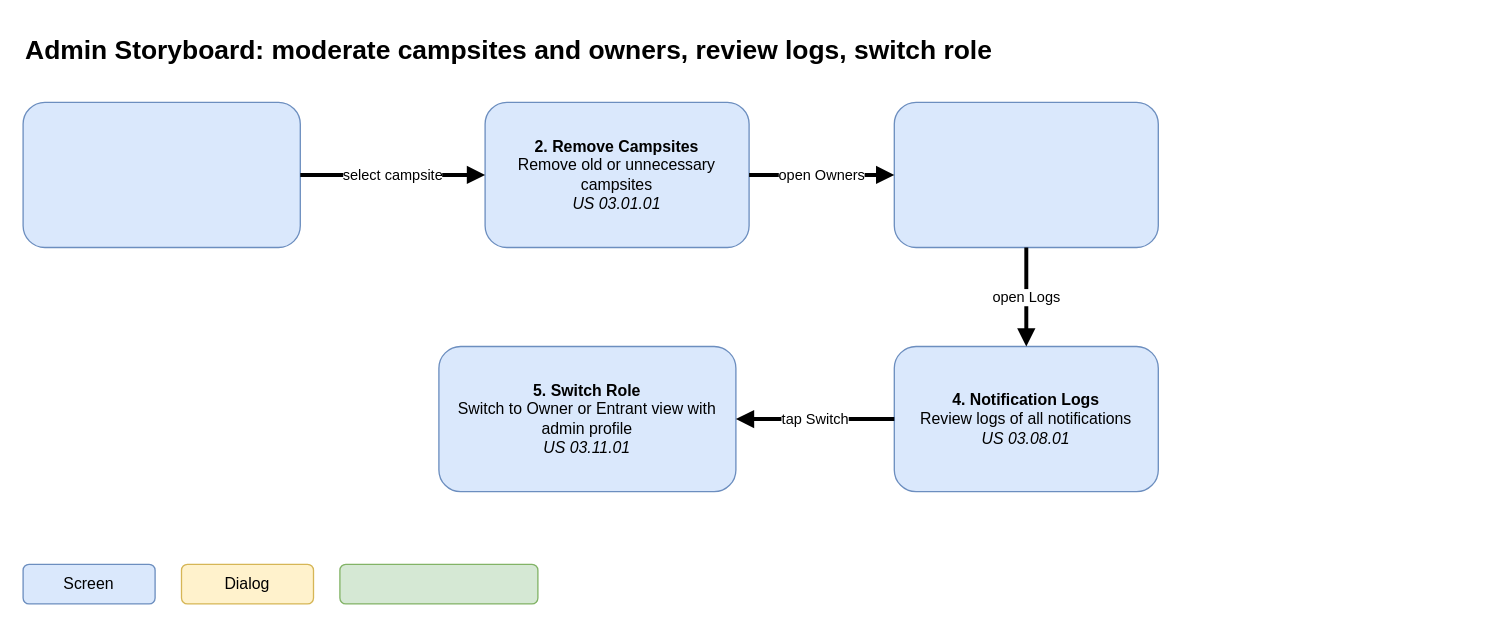
The diagram is 1498 pixels wide and 627 high, and some of its shapes have lost their labels. The shapes that lost their labels are listed below. From the top down, each one's centre as x and y in pixels, then its label:
point (161, 174): 1. Browse Campsites (main page) Admin list of all campsites US 03.04.01
point (1025, 174): 3. Remove Owners Remove owners who violate app policy US 03.07.01
point (438, 583): System / Notification
